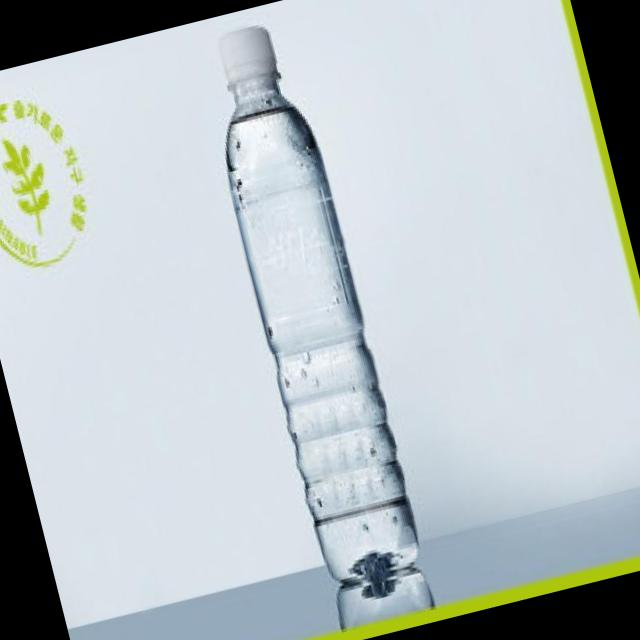plastic_bottle: (190, 16, 428, 595)
